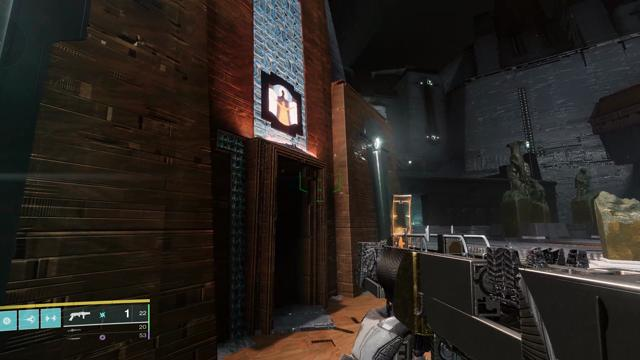worship: (269, 84, 298, 126)
